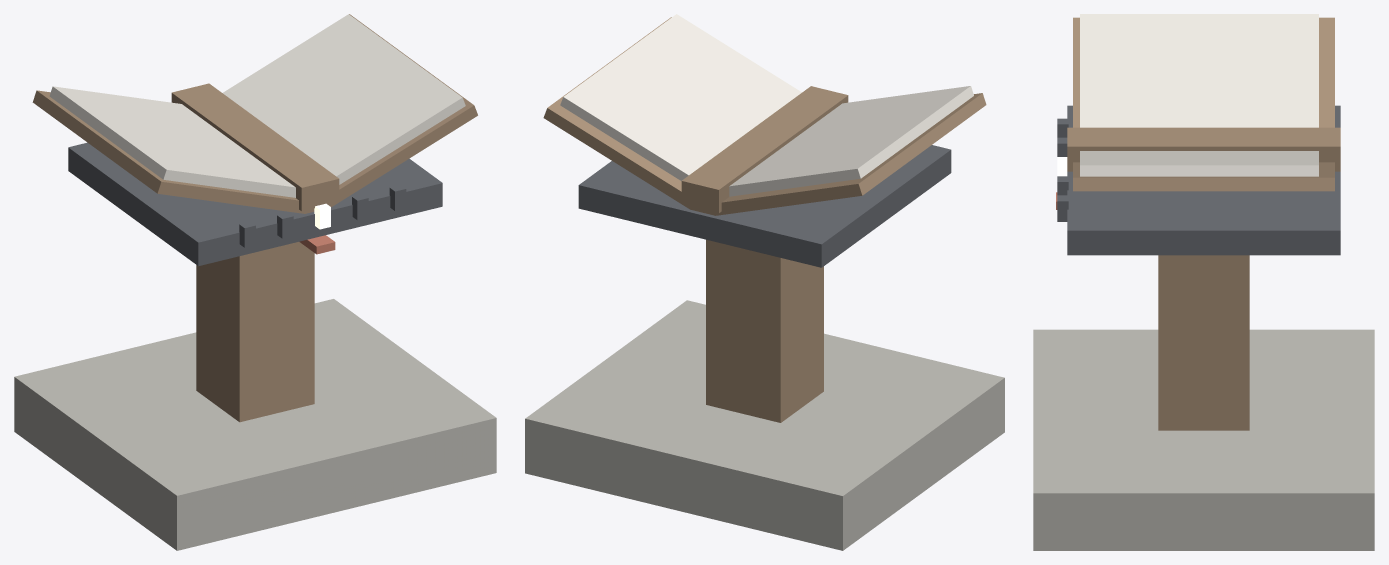
File: LM14_TwoYears.glb
3 views of the same model, side by side, from view 1: azimuth 30°, elevation 25°; view 2: azimuth 150°, elevation 25°; view 3: azimuth 270°, elevation 25° (orthographic). The views are drawn at different scales.
Parts seen in each view (by area): view 1: Base, PageR, Post, Cradle, PageL, Spine, CoverL, CoverR; view 2: Base, PageR, Post, Cradle, PageL, Spine, CoverL, CoverR; view 3: Base, PageL, Cradle, Post, Spine, PageR, CoverR, CoverL.
Boxes of the visible parts, x1,y1,x2,y2 form: Base: (14,299,496,550); PageR: (223,14,465,184); Post: (196,242,314,422); Cradle: (68,142,442,266); PageL: (49,86,295,197); Spine: (171,83,339,211); CoverL: (32,90,314,213); CoverR: (328,14,477,207); Base: (525,300,1004,550); PageR: (560,14,801,180); Post: (706,239,823,422); Cradle: (578,145,951,267); PageL: (729,86,973,196); Spine: (681,86,848,213); CoverL: (702,93,986,215); CoverR: (543,17,702,212); Base: (1033,329,1374,550); PageL: (1080,14,1318,127); Cradle: (1067,105,1340,255); Post: (1158,255,1249,430); Spine: (1067,127,1340,171); PageR: (1080,151,1318,176); CoverR: (1073,162,1334,191); CoverL: (1073,17,1334,127).
Bounding box in the file's own units: 1.71 × 1.84 × 1.5.
